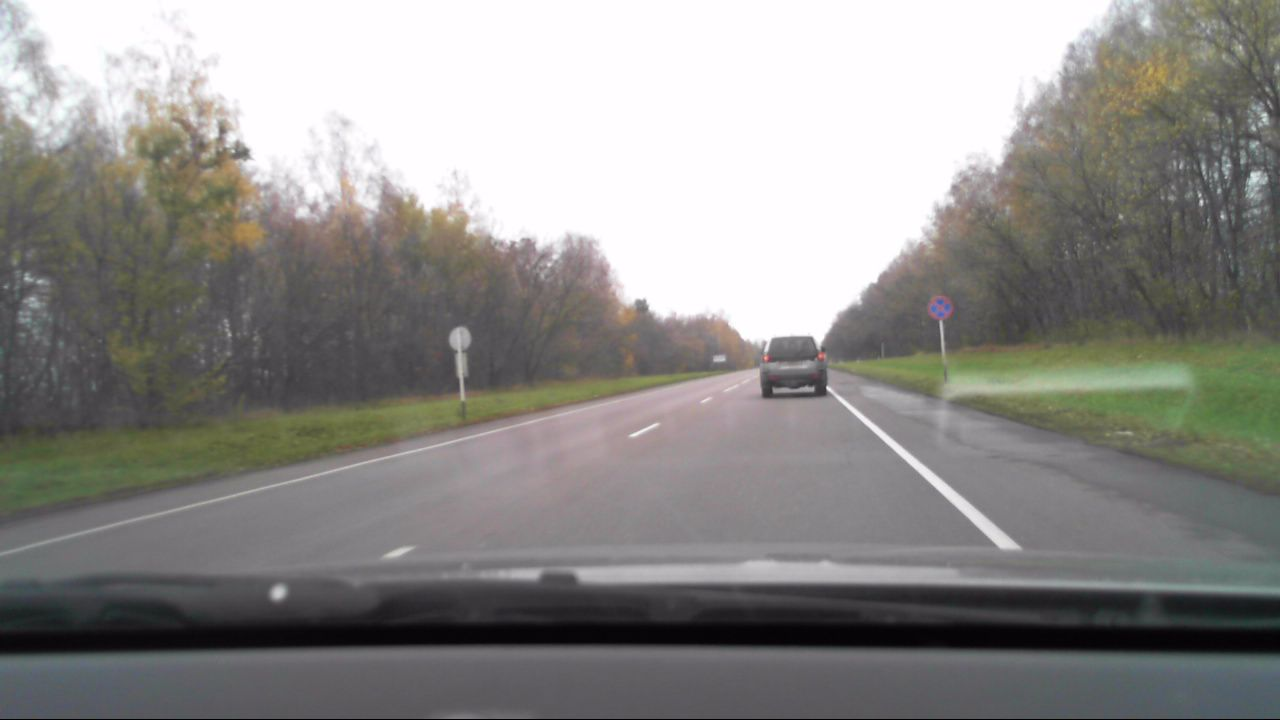No Parking: (926, 294, 954, 319)
